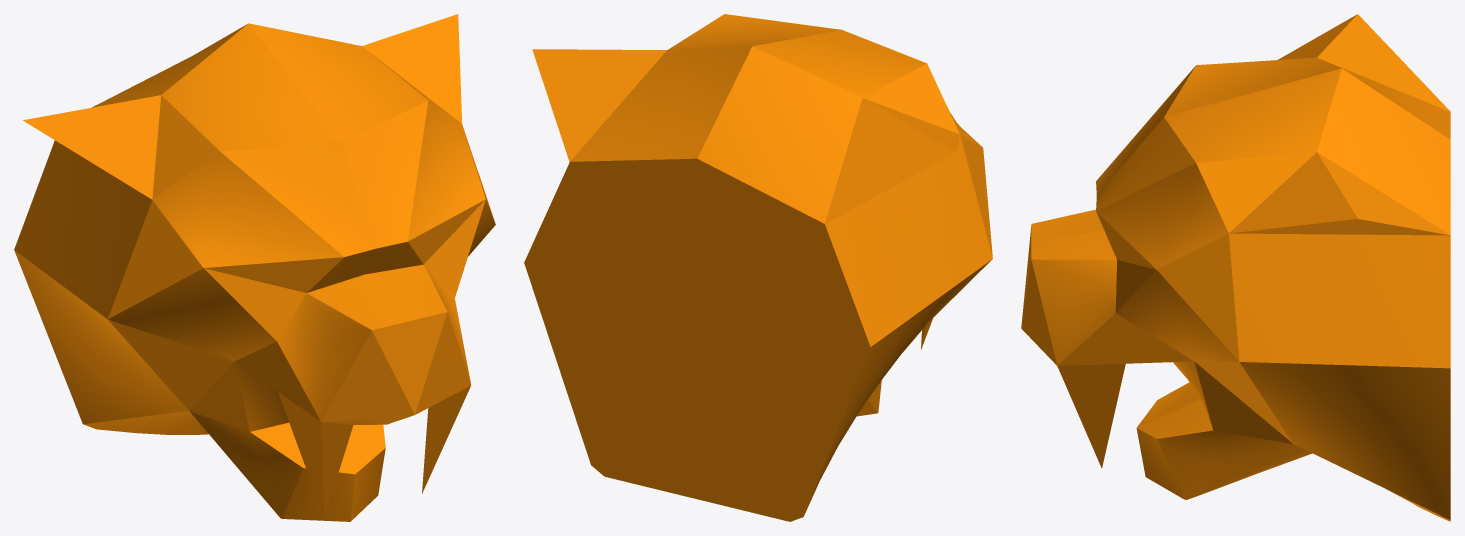
Rendered from tiger_head_out.glb.
3 views of the same model, side by side, from view 1: azimuth 30°, elevation 25°; view 2: azimuth 150°, elevation 25°; view 3: azimuth 270°, elevation 25° (orthographic). The views are drawn at different scales.
Parts seen in each view (by area): view 1: Body45; view 2: Body45; view 3: Body45.
Boxes of the visible parts, <box> form: Body45: <box>14,14,495,521</box>; Body45: <box>524,14,992,521</box>; Body45: <box>1021,14,1450,521</box>.
Size of the model in its own units: 0.1195 by 0.1111 by 0.1058.
